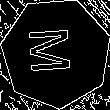M_E: (30, 28, 82, 78)
